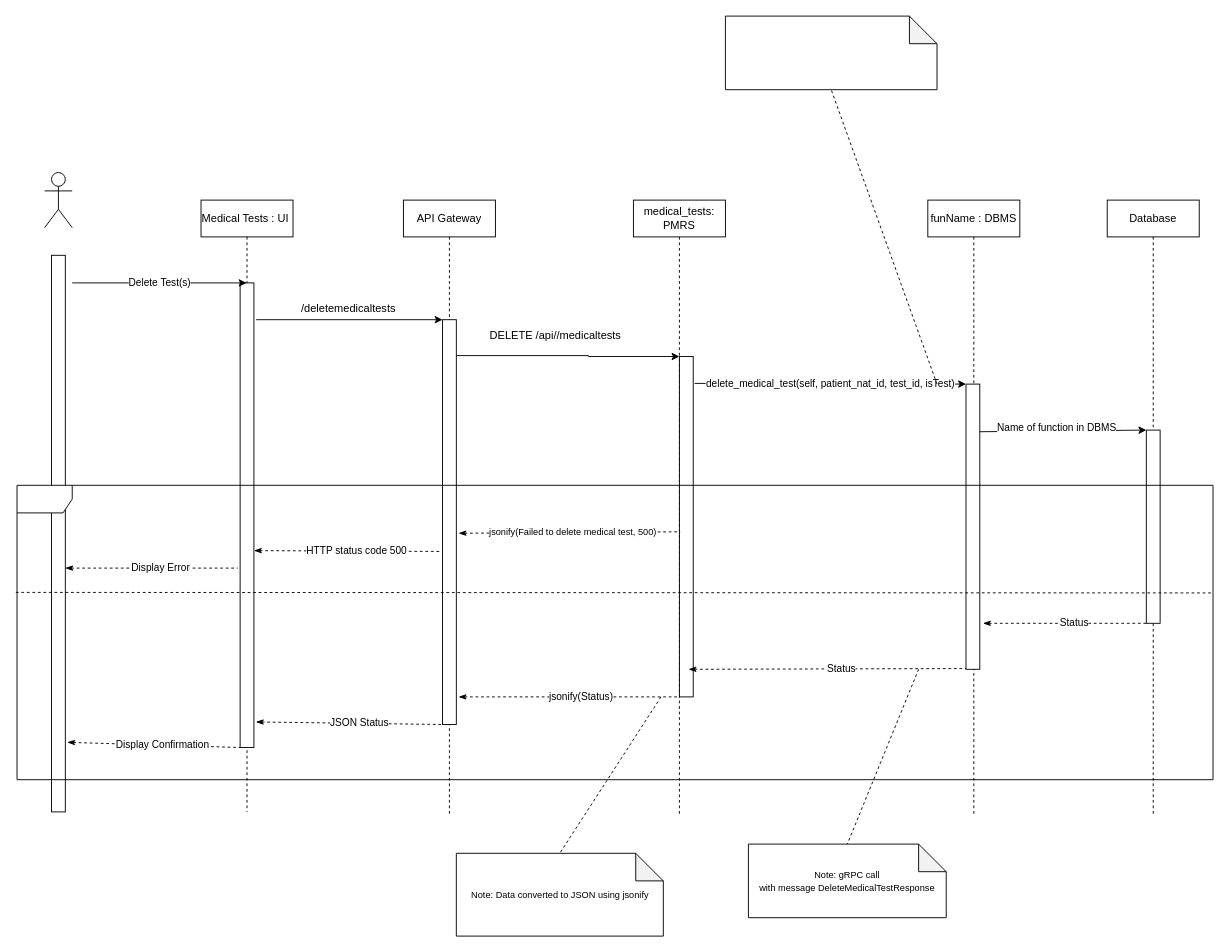
Some shapes in this 1231 by 952 pixel diagram are drawn without their labels. The box of each missing label's shape, as (x1, y1, x2, y2) in pixels:
Admin: (44, 172, 72, 228)
alt: (16, 484, 1213, 780)
Note: gRPC call with message DeleteMedicalTestRequest: (724, 15, 937, 90)
